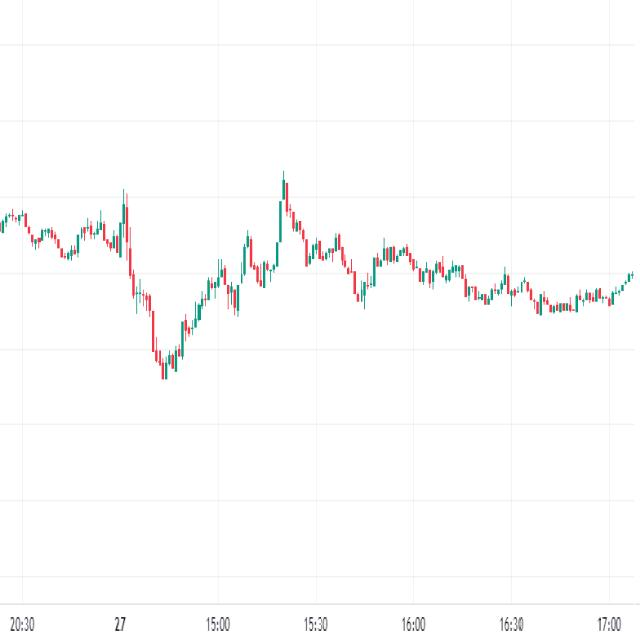Rising-Wedge: (127, 210, 288, 417)
